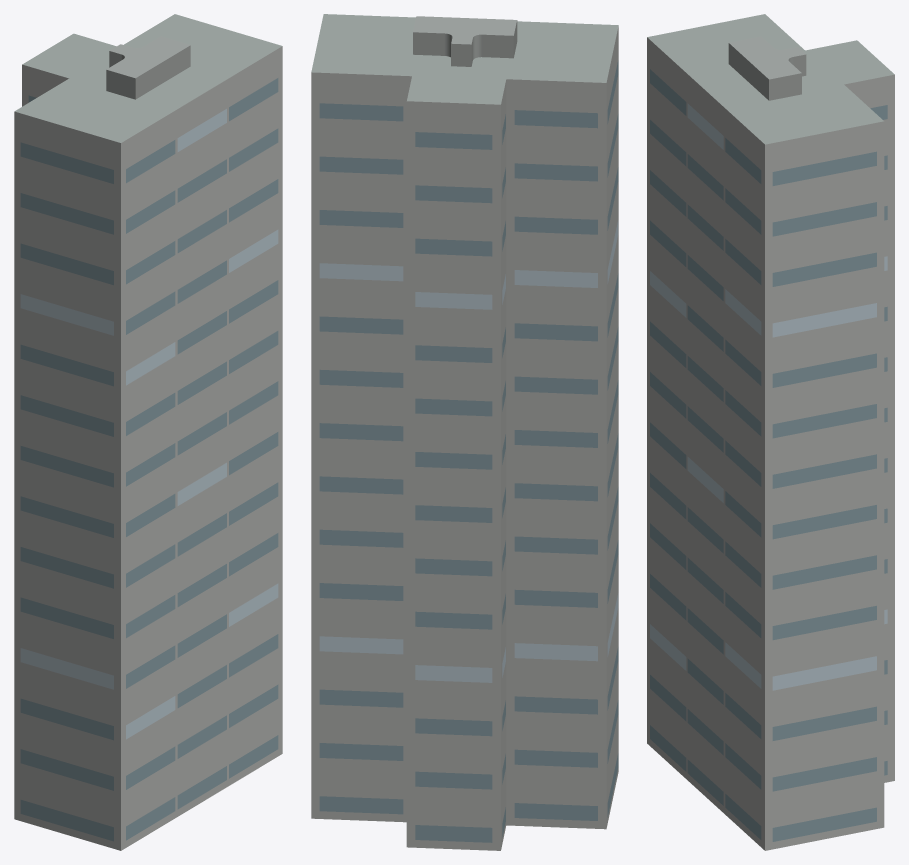
Rendered from fallback-shinbanpo-xi-101.glb.
3 views of the same model, side by side, from view 1: azimuth 30°, elevation 25°; view 2: azimuth 150°, elevation 25°; view 3: azimuth 270°, elevation 25° (orthographic). The views are drawn at different scales.
Parts seen in each view (by area): view 1: fallback-shinbanpo-xi-101; view 2: fallback-shinbanpo-xi-101; view 3: fallback-shinbanpo-xi-101.
Boxes of the visible parts, x1=… form: fallback-shinbanpo-xi-101: x1=14, y1=14, x2=282, y2=850; fallback-shinbanpo-xi-101: x1=311, y1=14, x2=618, y2=850; fallback-shinbanpo-xi-101: x1=647, y1=14, x2=894, y2=850.
Bounding box in the file's own units: 31.58 × 82 × 25.31.
